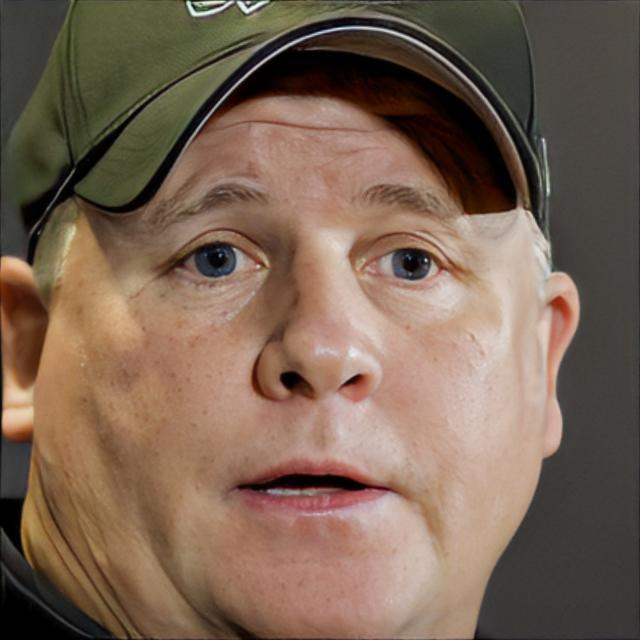surprise: (50, 46, 547, 640)
